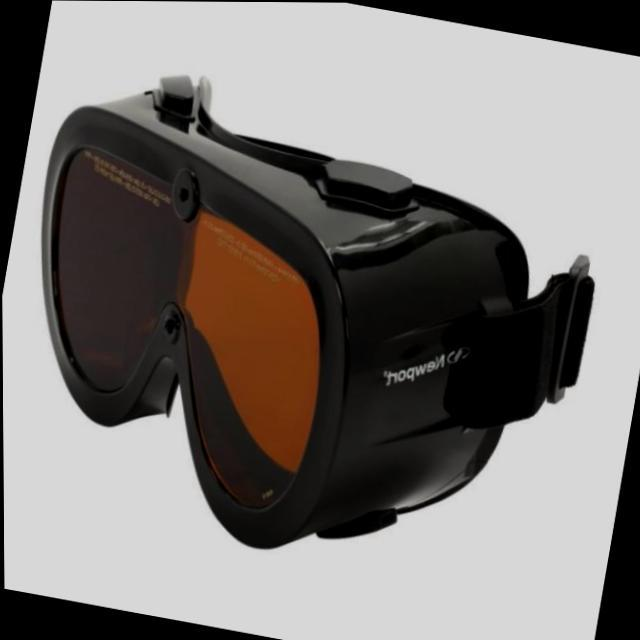goggles_on: (24, 57, 604, 562)
